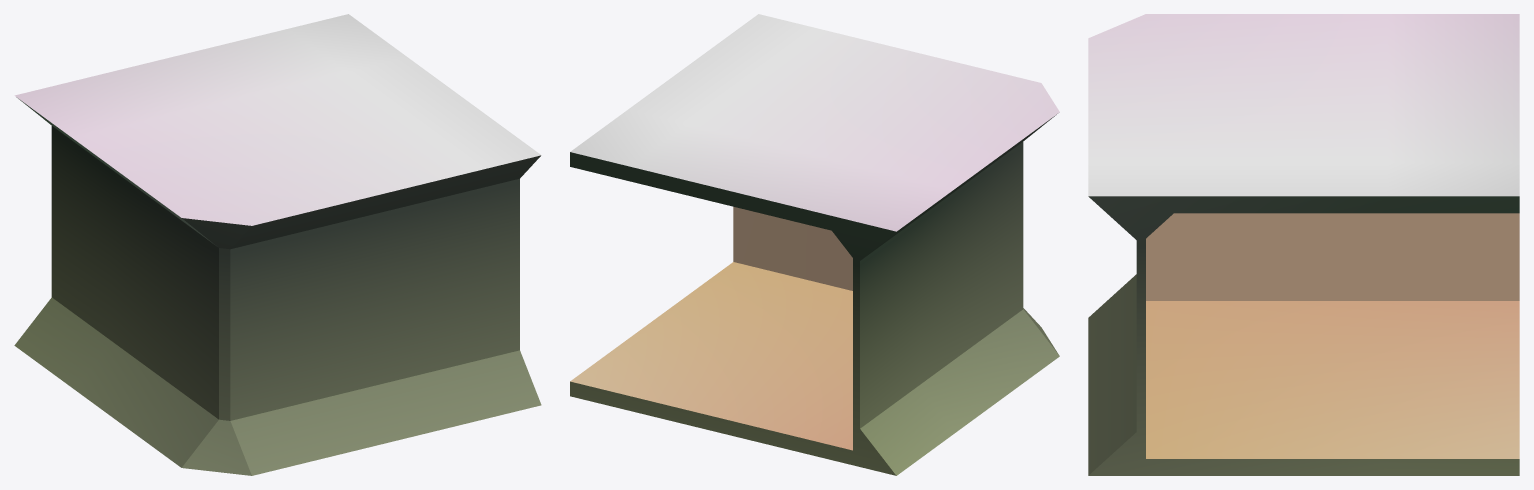
File: R_Corner.fbx
3 views of the same model, side by side, from view 1: azimuth 30°, elevation 25°; view 2: azimuth 150°, elevation 25°; view 3: azimuth 270°, elevation 25° (orthographic). The views are drawn at different scales.
Visible parts, largest first — view 1: R_Corner; view 2: R_Corner; view 3: R_Corner.
Part boxes in pixels (bbox=[...]): R_Corner: bbox=[14, 14, 541, 475]; R_Corner: bbox=[570, 14, 1059, 475]; R_Corner: bbox=[1088, 14, 1519, 475].
Bounding box in the file's own units: 4.62 × 4.62 × 3.3.
